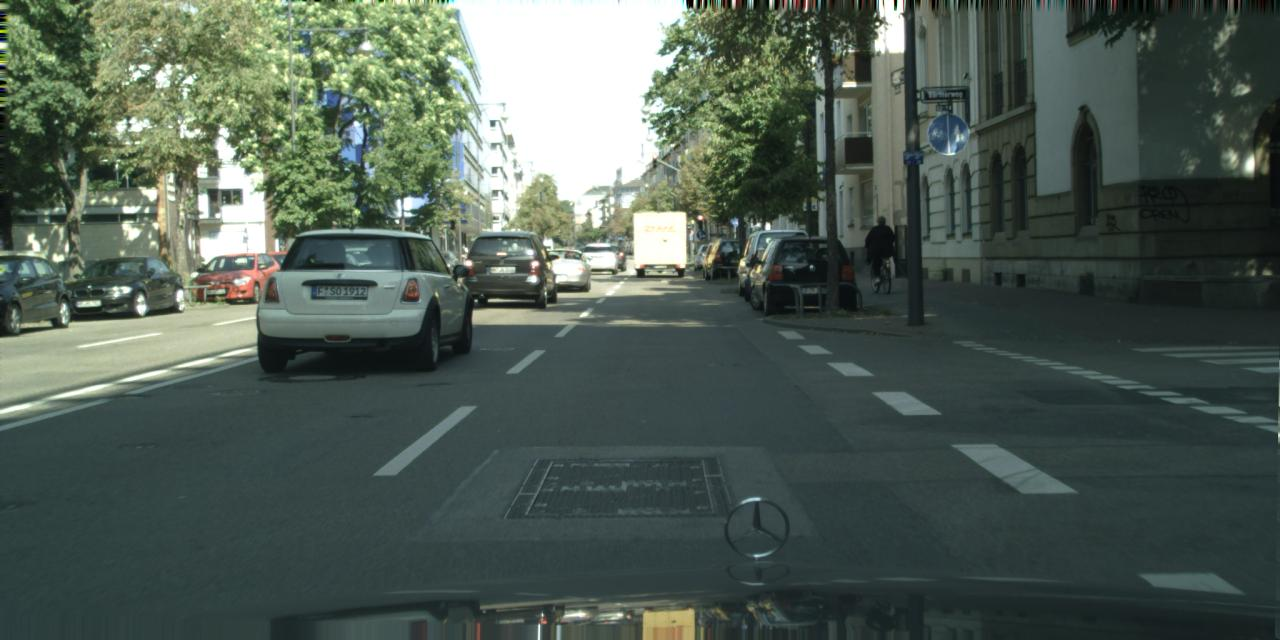ped: (869, 215, 894, 274)
